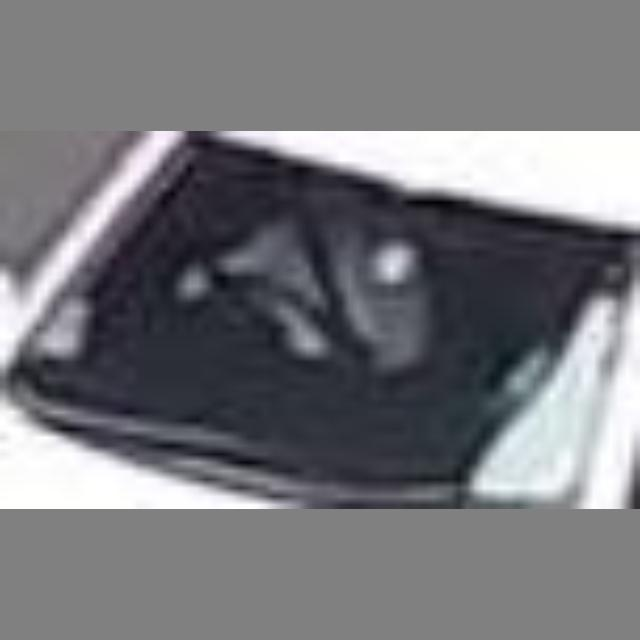pakai: (211, 198, 446, 434)
